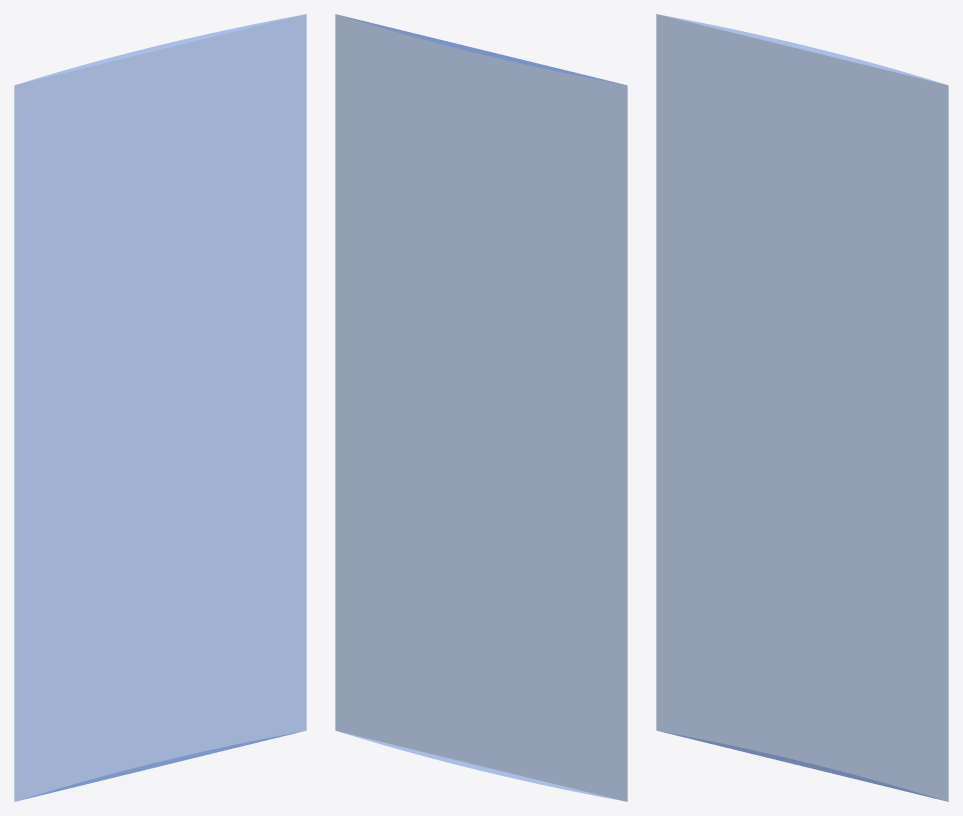
The model's file is original-103.obj.
The picture shows the model from 3 angles, left to right: view 1: azimuth 30°, elevation 25°; view 2: azimuth 150°, elevation 25°; view 3: azimuth 330°, elevation 25°; orthographic projection.
Visible parts, largest first — view 1: mesh67/mesh67-geometry/material_1/component_14#mesh67-geometry; view 2: mesh67/mesh67-geometry/material_1/component_14#mesh67-geometry; view 3: mesh67/mesh67-geometry/material_1/component_14#mesh67-geometry.
Part boxes in pixels (x1,y1,x2,y2): mesh67/mesh67-geometry/material_1/component_14#mesh67-geometry: (14,14,306,801); mesh67/mesh67-geometry/material_1/component_14#mesh67-geometry: (335,14,627,801); mesh67/mesh67-geometry/material_1/component_14#mesh67-geometry: (656,14,948,801).
Size of the model in its own units: 0.7175 by 1.68 by 0.0205.
